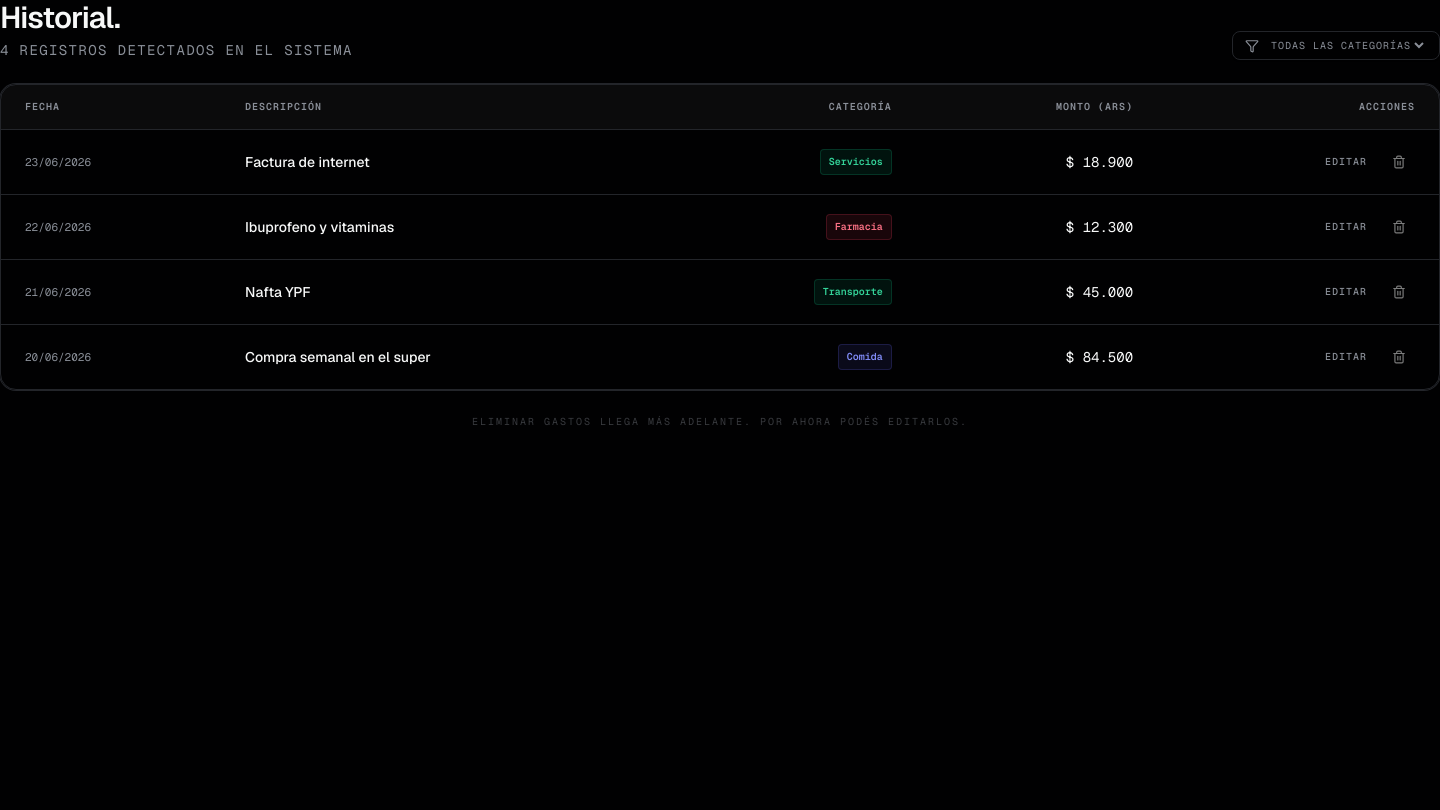
Test: HistoryScreen › keeps the modal open and surfaces an error when the edit request fails
Click the button "Editar" in the row of "20/06/2026" at [1346, 357], box [1317,341,1375,373]
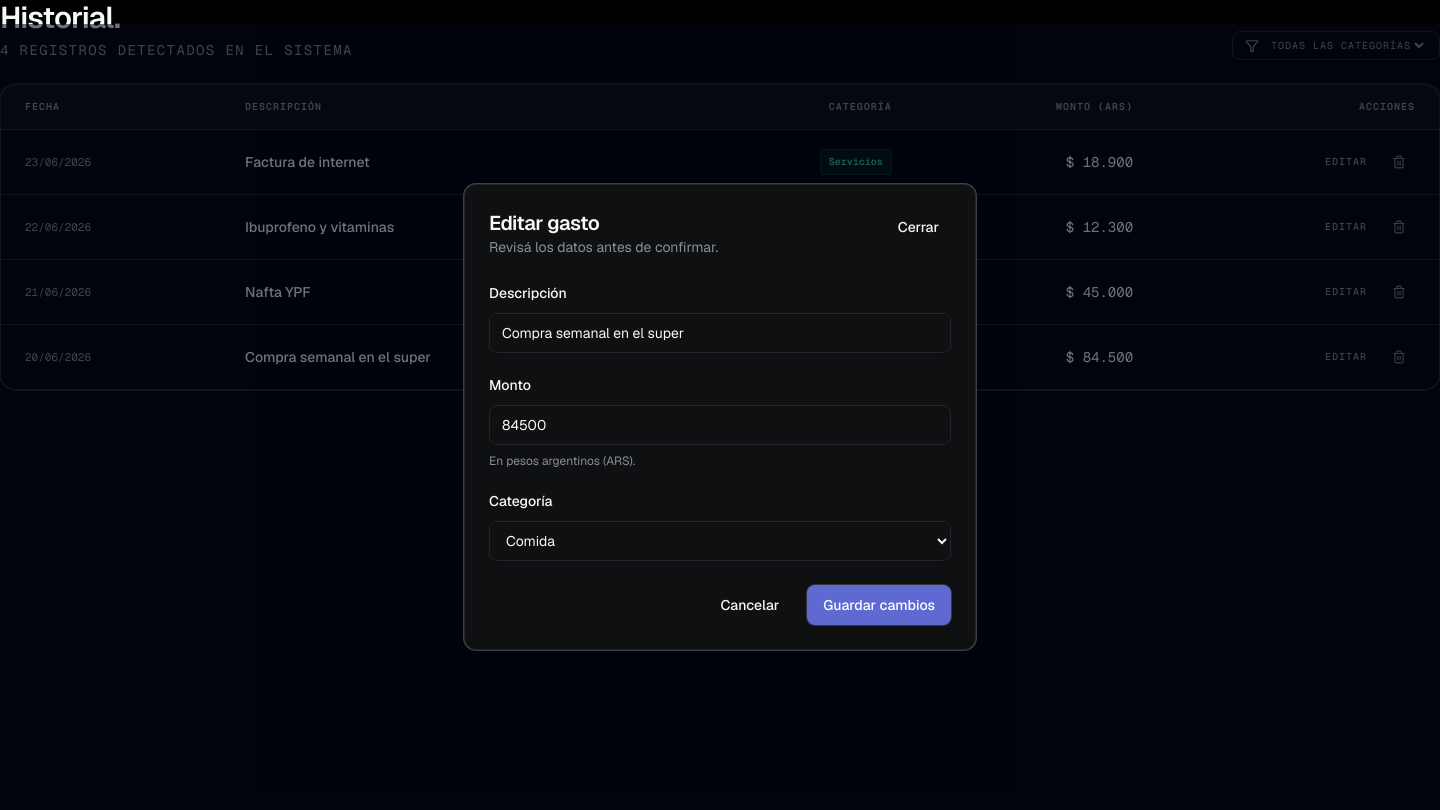
Click the button "Guardar cambios" at [879, 605], box [807,585,951,625]
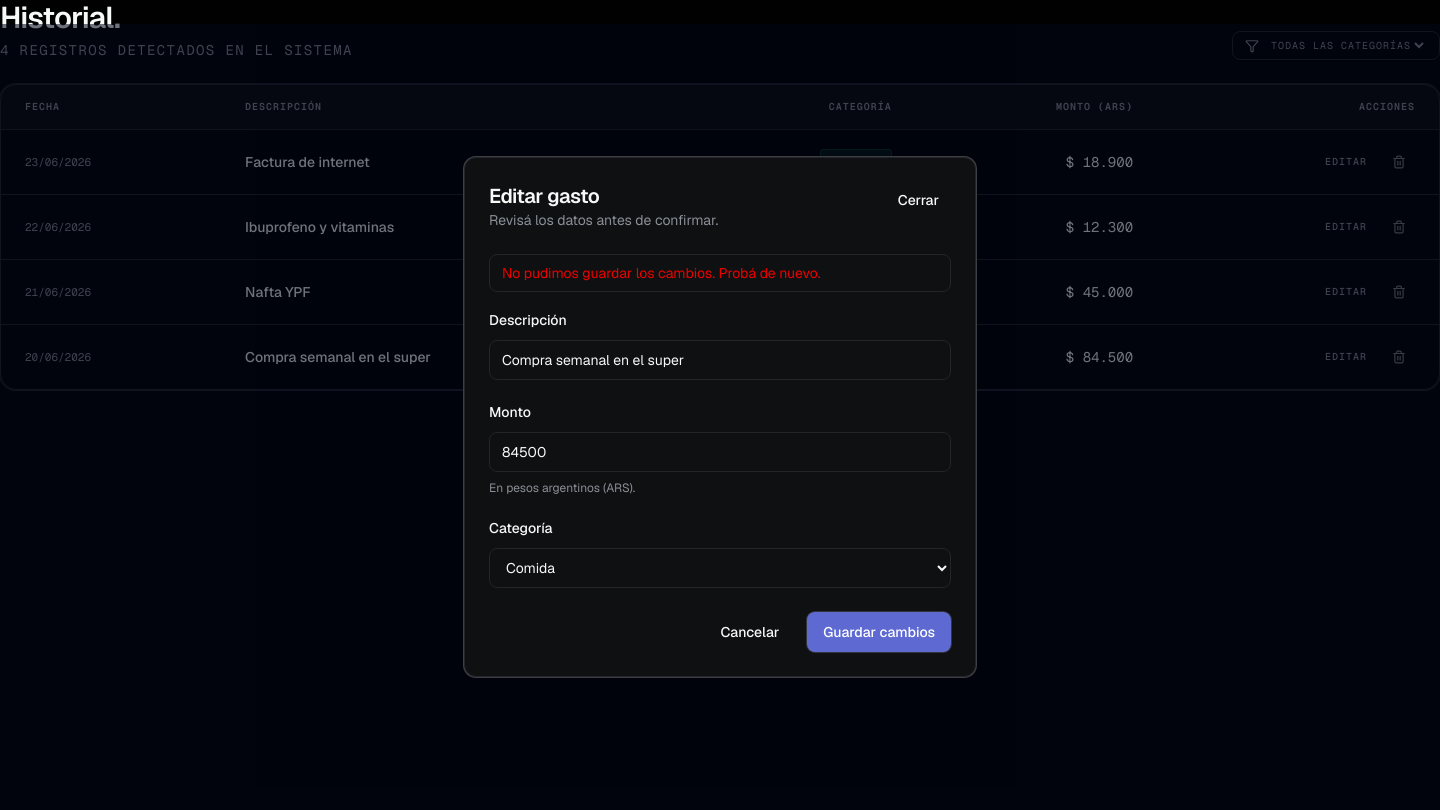
Check: the dialog "Editar gasto" is shown, box [464,157,976,677]
Check: the text "No pudimos guardar los cambios. Probá de nuevo." is shown, box [489,254,951,292]
